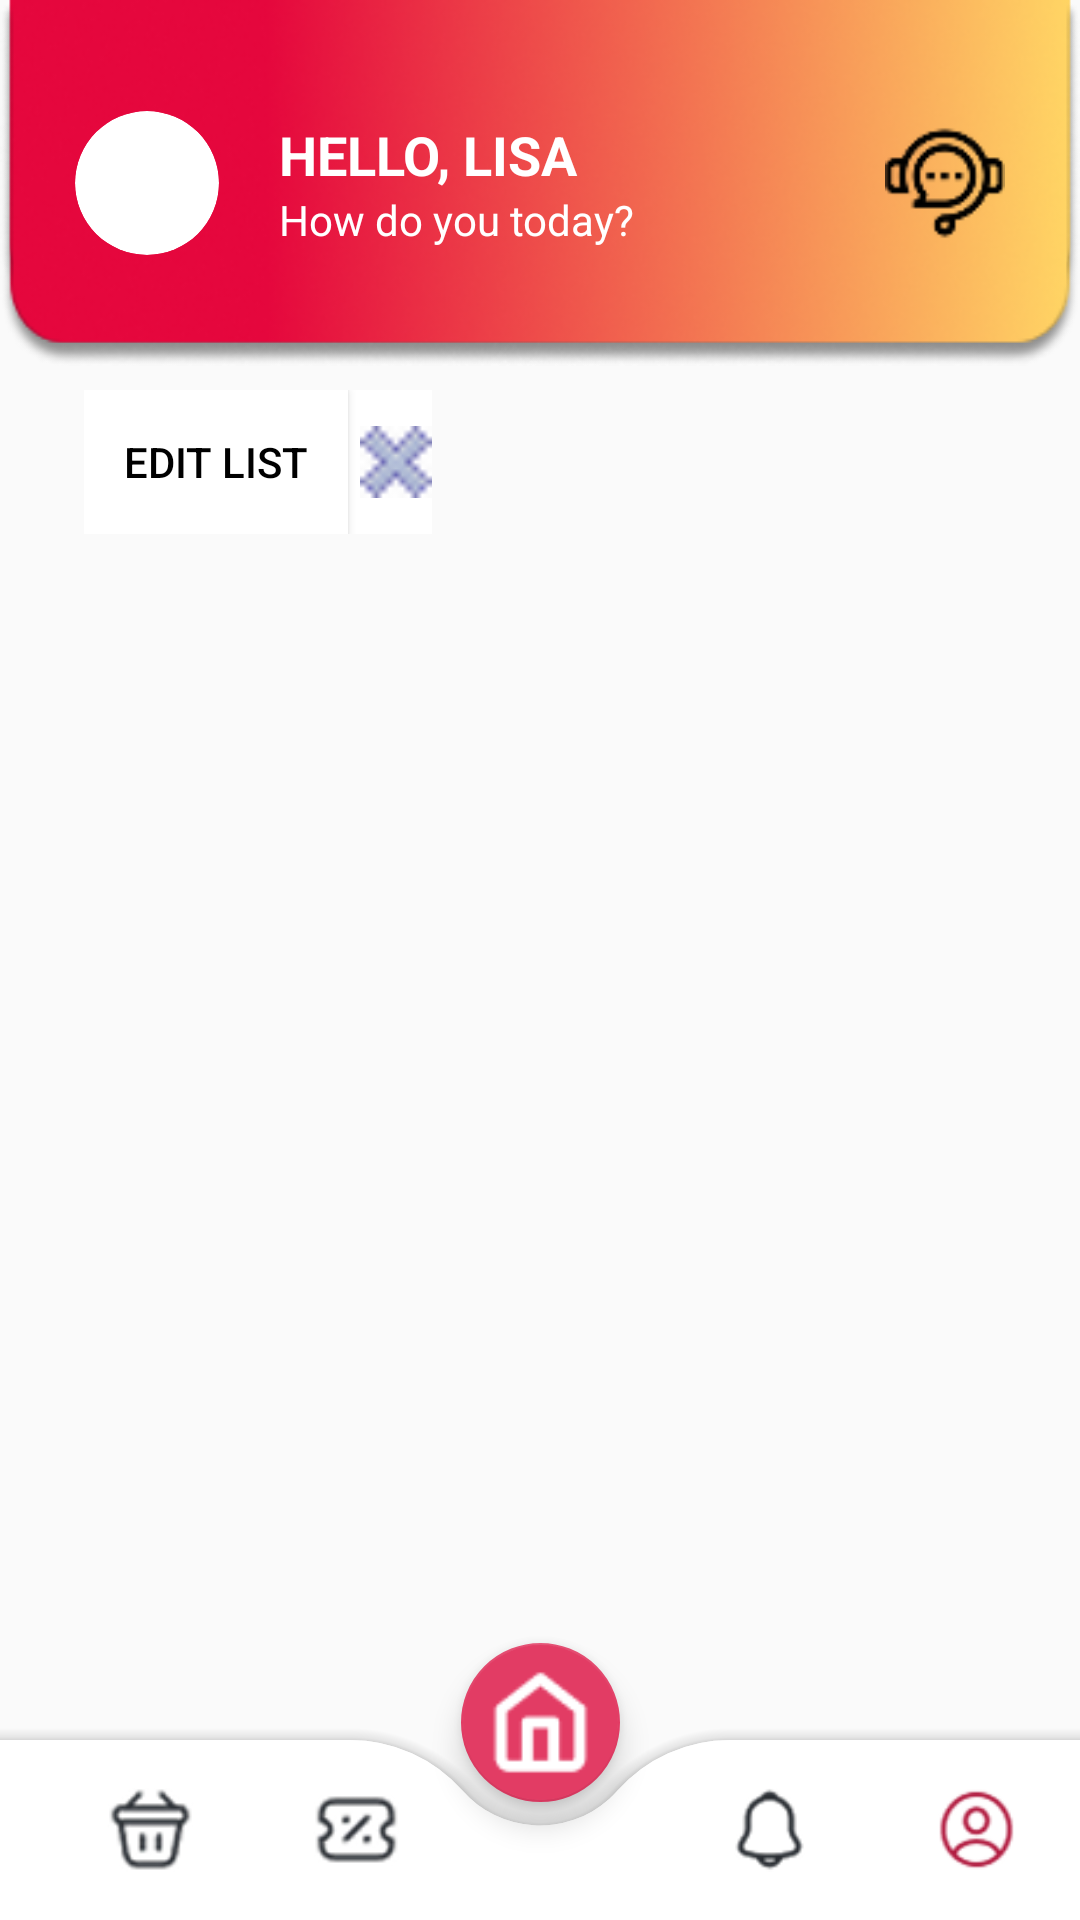

Point at icon controls on the screen. Image size 1080x1920, points as (x=x, y=y).
account: (x=976, y=1829)
cart: (x=151, y=1830)
chat: (x=945, y=183)
close: (x=396, y=462)
home: (x=540, y=1740)
notification: (x=769, y=1829)
voucher: (x=356, y=1829)
